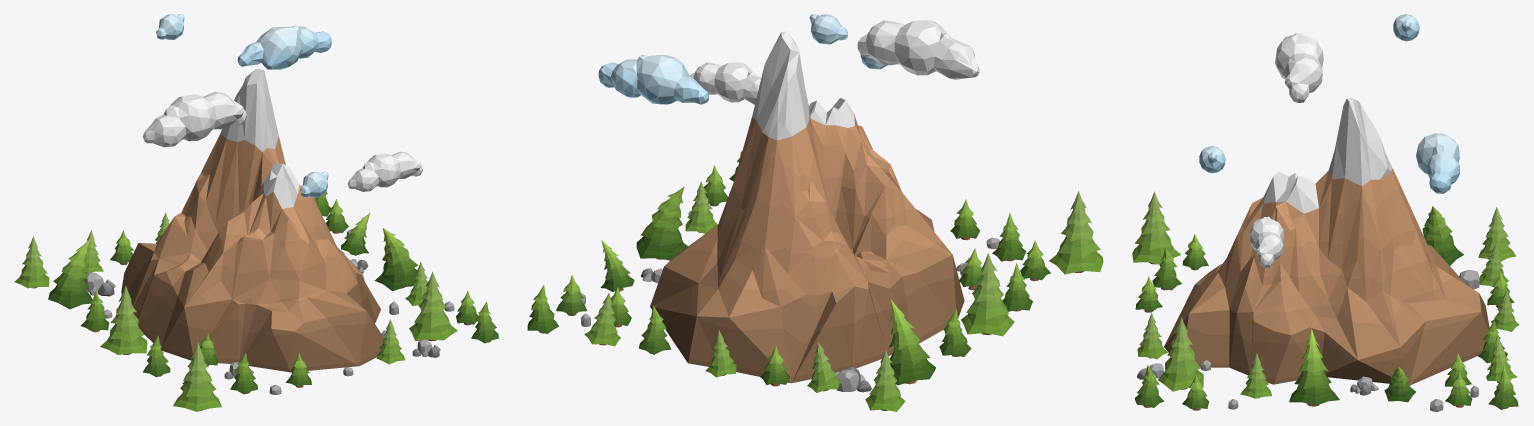
Rendered from mountain_forest.glb.
3 renders of one model, left to right at view 1: azimuth 30°, elevation 25°; view 2: azimuth 150°, elevation 25°; view 3: azimuth 270°, elevation 25°, orthographic. The views are drawn at different scales.
Parts seen in each view (by area): view 1: mountain 5_24, cloud 3_10, cloud 2_12, cloud 3 (1)_15, fir tree large 3_2, fir tree large 3 (7)_40, fir tree large 3 (8)_7, fir tree tilted 3 (2)_6, fir tree tilted 3_28, fir tree large 3 (6)_41, fir tree large 3 (1)_38, fir tree tilted 3 (1)_0 (+12 smaller); view 2: mountain 5_24, cloud 3_10, cloud 2_12, fir tree large 3 (7)_40, fir tree large 3 (8)_7, fir tree tilted 3_28, fir tree tilted 3 (2)_6, cloud 3 (1)_15, fir tree large 3 (6)_41, fir tree large 3 (3)_33, fir tree tilted 3 (1)_0, fir tree large 3 (2)_19 (+15 smaller); view 3: mountain 5_24, cloud 3_10, cloud 2_12, fir tree tilted 3_28, fir tree large 3_2, fir tree large 3 (8)_7, cloud 3 (1)_15, fir tree tilted 3 (2)_6, fir tree large 3 (6)_41, fir tree large 3 (1)_38, fir tree large 3 (2)_19, fir tree medium 3 (5)_42 (+15 smaller).
Part boxes in pixels (bbox=[...]): mountain 5_24: bbox=[121, 69, 383, 372]; cloud 3_10: bbox=[143, 91, 246, 147]; cloud 2_12: bbox=[237, 25, 331, 69]; cloud 3 (1)_15: bbox=[347, 151, 422, 191]; fir tree large 3_2: bbox=[409, 271, 457, 341]; fir tree large 3 (7)_40: bbox=[100, 285, 147, 354]; fir tree large 3 (8)_7: bbox=[173, 342, 221, 411]; fir tree tilted 3 (2)_6: bbox=[48, 238, 92, 309]; fir tree tilted 3_28: bbox=[375, 228, 418, 290]; fir tree large 3 (6)_41: bbox=[14, 236, 49, 288]; fir tree large 3 (1)_38: bbox=[376, 319, 405, 364]; fir tree tilted 3 (1)_0: bbox=[341, 212, 370, 255]; mountain 5_24: bbox=[650, 31, 964, 383]; cloud 3_10: bbox=[857, 20, 979, 79]; cloud 2_12: bbox=[598, 54, 708, 104]; fir tree large 3 (7)_40: bbox=[961, 253, 1014, 336]; fir tree large 3 (8)_7: bbox=[1049, 191, 1103, 274]; fir tree tilted 3_28: bbox=[636, 186, 687, 260]; fir tree tilted 3 (2)_6: bbox=[888, 299, 935, 385]; cloud 3 (1)_15: bbox=[690, 62, 761, 104]; fir tree large 3 (6)_41: bbox=[865, 350, 905, 411]; fir tree large 3 (3)_33: bbox=[584, 292, 620, 346]; fir tree tilted 3 (1)_0: bbox=[600, 240, 634, 291]; fir tree large 3 (2)_19: bbox=[685, 181, 717, 233]; mountain 5_24: bbox=[1164, 98, 1489, 385]; cloud 3_10: bbox=[1275, 32, 1323, 102]; cloud 2_12: bbox=[1416, 133, 1459, 193]; fir tree tilted 3_28: bbox=[1289, 328, 1339, 406]; fir tree large 3_2: bbox=[1158, 317, 1203, 391]; fir tree large 3 (8)_7: bbox=[1132, 191, 1180, 264]; cloud 3 (1)_15: bbox=[1248, 216, 1283, 267]; fir tree tilted 3 (2)_6: bbox=[1422, 206, 1463, 265]; fir tree large 3 (6)_41: bbox=[1478, 207, 1516, 261]; fir tree large 3 (1)_38: bbox=[1137, 313, 1168, 359]; fir tree large 3 (2)_19: bbox=[1240, 353, 1271, 398]; fir tree medium 3 (5)_42: bbox=[1152, 247, 1181, 290].
Bounding box in the file's own units: 17.23 × 14.46 × 17.2.
1 material, 1 textured.
